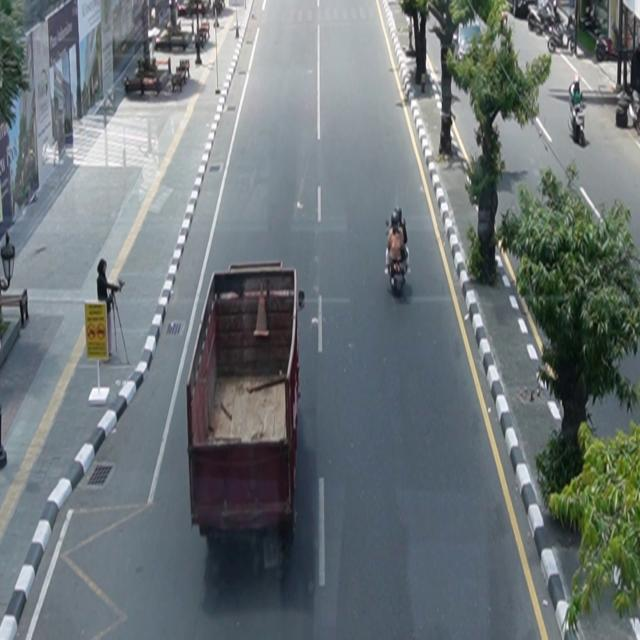truck: (187, 261, 307, 549)
